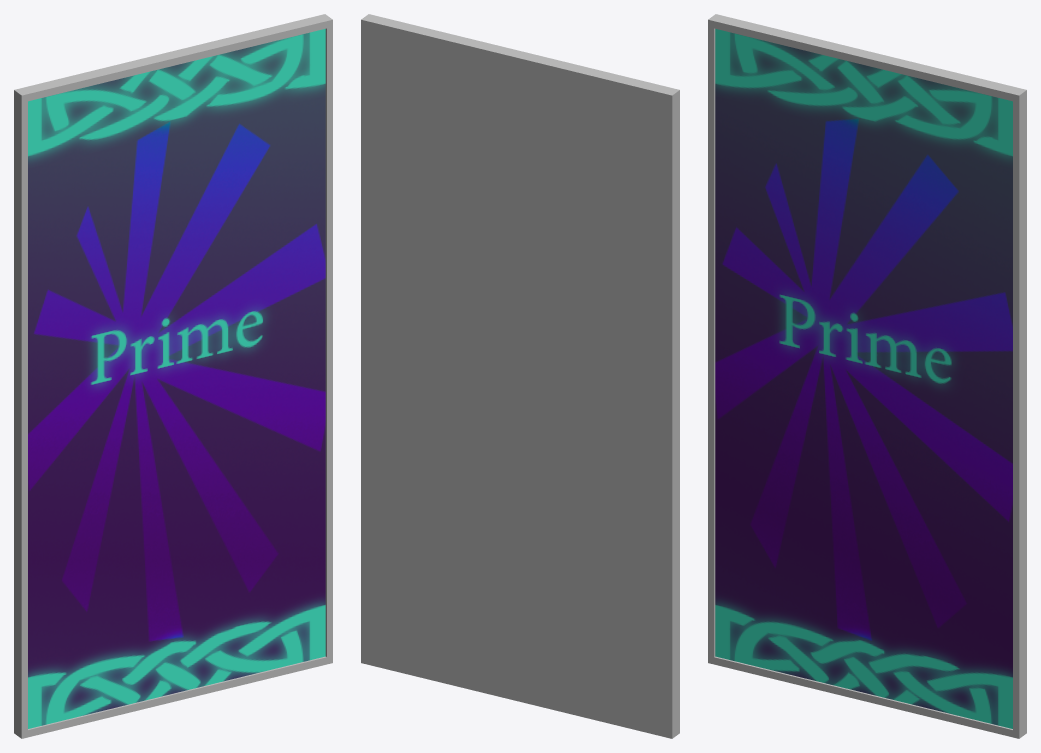
File: screen_3.fbx
3 views of the same model, side by side, from view 1: azimuth 30°, elevation 25°; view 2: azimuth 150°, elevation 25°; view 3: azimuth 330°, elevation 25° (orthographic).
Parts seen in each view (by area): view 1: screen_3; view 2: screen_3; view 3: screen_3.
Part boxes in pixels (left/top/right/bottom): screen_3: left=14, top=14, right=332, bottom=738; screen_3: left=361, top=14, right=679, bottom=738; screen_3: left=708, top=14, right=1026, bottom=738.
Size of the model in its own units: 1.03 by 2.03 by 0.0445.
